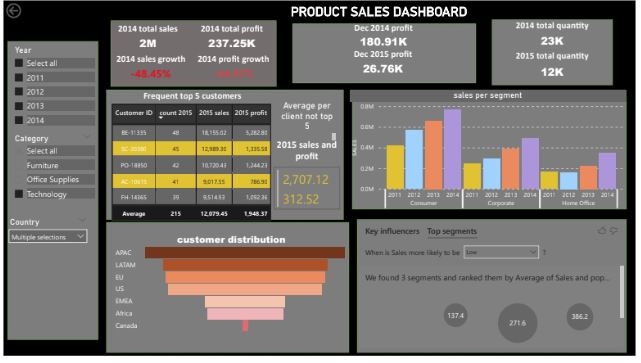

What the dashboard file says about the page in this screenshot:
{"tool":"powerbi","page":{"name":"CUSTOMER ANALYSIS","canvas":[1280,720],"ordinal":0},"visuals":[{"type":"card","title":"2014 total quantity","fields":{"Values":["Global Superstore.2014 quantity sold"]},"box":[997.8,37,228.5,65.5],"z":0,"group":"g3"},{"type":"card","title":"2014 total sales","fields":{"Values":["Global Superstore.YTD total sales"]},"box":[221.7,43.7,141,62.2],"z":0,"group":"g2"},{"type":"card","title":"2014 profit growth","fields":{"Values":["Global Superstore.2014 profit growth"]},"box":[382.9,105.8,166.2,62.2],"z":0},{"type":"card","title":"2014 total profit","fields":{"Values":["Global Superstore.2014 total profit"]},"box":[374.6,43.7,174.7,62.2],"z":1000,"group":"g2"},{"type":"card","title":"2015 total quantity","fields":{"Values":["Global Superstore.2015 quantity sold"]},"box":[997.8,99.2,228.5,68.9],"z":1000,"group":"g3"},{"type":"tableEx","title":"Frequent top 5 customers","fields":{"Values":["Table.Customer ID","Sum(Table. 2015_count)","Avg(Table.2015 all sales)","Avg(Table.2015 profit)"]},"box":[212.7,180.7,339.3,288.9],"z":1000},{"type":"card","title":"Dec 2014 profit","fields":{"Values":["Global Superstore.MTD total sales"]},"box":[585.3,42.8,367.9,58.8],"z":1001,"group":"g1"},{"type":"group","id":"g1","title":"Group 1","box":[584.6,42.8,368.6,115.1],"z":2000},{"type":"card","title":"2014 sales growth","fields":{"Values":["Global Superstore.2014-2013 diff"]},"box":[221.7,105.9,152.8,62.2],"z":2000,"group":"g2"},{"type":"card","title":"Dec 2015 profit","fields":{"Values":["Global Superstore.Dec 2015 profit"]},"box":[584.6,95.8,367.9,62.2],"z":2001,"group":"g1"},{"type":"multiRowCard","title":"2015 sales and profit","fields":{"Values":["Avg(OtherIDs.2015 all sales)","Avg(OtherIDs.2015 profit)"]},"box":[542.1,278,144.6,164],"z":3000},{"type":"group","id":"g2","title":"Group 2","box":[221.7,43.7,327.6,124.3],"z":4000},{"type":"textbox","title":"Average per client not top 5","box":[552,200.9,126,87],"z":5000},{"type":"group","id":"g3","title":"Group 3","box":[997.8,37,228.5,131],"z":6000},{"type":"actionButton","box":[0,0,100,40],"z":7000},{"type":"clusteredColumnChart","title":"sales per segment","fields":{"Category":["Global Superstore.Segment","calendar Table.Date.Variation.Date Hierarchy.Year"],"Y":["Sum(Global Superstore.Sales)"]},"box":[700.5,180.7,561.5,251.6],"z":8000},{"type":"funnel","title":"customer distribution","fields":{"Category":["Global Superstore.Market"],"Y":["CountNonNull(Global Superstore.Customer ID)"]},"box":[222.4,469.8,478.1,207.1],"z":9000},{"type":"keyDriversVisual","fields":{"ExplainBy":["Global Superstore.Quantity"],"Target":["Global Superstore.Sales"]},"box":[715.8,442,546.3,264.1],"z":10000},{"type":"slicer","fields":{"Values":["calendar Table.Year"]},"box":[9.7,84.8,179.3,177.9],"z":11000},{"type":"slicer","fields":{"Values":["Global Superstore.Category"]},"box":[9.7,262.7,179.3,154.3],"z":12000},{"type":"slicer","fields":{"Values":["Global Superstore.Country"]},"box":[0,432.3,179.3,273.8],"z":13000},{"type":"textbox","title":"PRODUCT SALES DASHBOARD","box":[551.8,5.6,417,37.5],"z":14000}]}

Visuals, with their boxes in screenshot pixels (x1, y1, x2, y2), scaled from the page's 1280x720 canvas onto the 641x363 screenshot:
"2014 total quantity" card: (500,19,614,52)
"2014 total sales" card: (111,22,182,53)
"2014 profit growth" card: (192,53,275,85)
"2014 total profit" card: (188,22,275,53)
"2015 total quantity" card: (500,50,614,85)
"Frequent top 5 customers" tableEx: (107,91,276,237)
"Dec 2014 profit" card: (293,22,477,51)
"Group 1" group: (293,22,477,80)
"2014 sales growth" card: (111,53,188,85)
"Dec 2015 profit" card: (293,48,477,80)
"2015 sales and profit" multiRowCard: (271,140,344,223)
"Group 2" group: (111,22,275,85)
"Average per client not top 5" textbox: (276,101,340,145)
"Group 3" group: (500,19,614,85)
actionButton: (0,0,50,20)
"sales per segment" clusteredColumnChart: (351,91,632,218)
"customer distribution" funnel: (111,237,351,341)
keyDriversVisual - Global Superstore.Quantity x Global Superstore.Sales: (358,223,632,356)
slicer - calendar Table.Year: (5,43,95,132)
slicer - Global Superstore.Category: (5,132,95,210)
slicer - Global Superstore.Country: (0,218,90,356)
"PRODUCT SALES DASHBOARD" textbox: (276,3,485,22)
